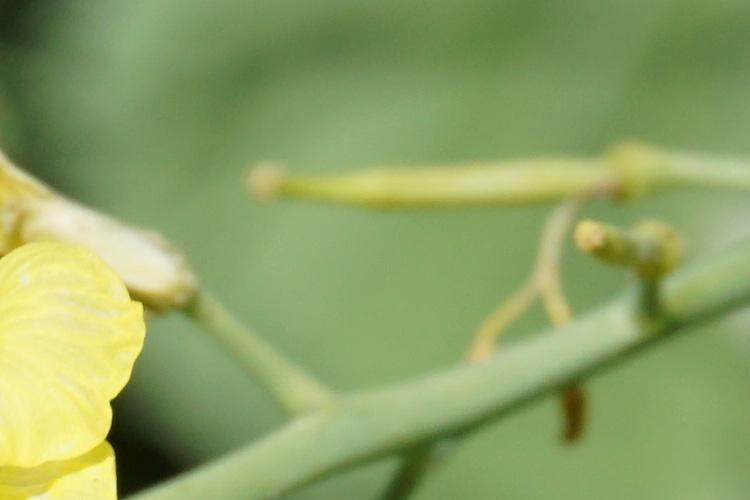pod: (244, 130, 746, 227)
yellow: (9, 243, 147, 494)
